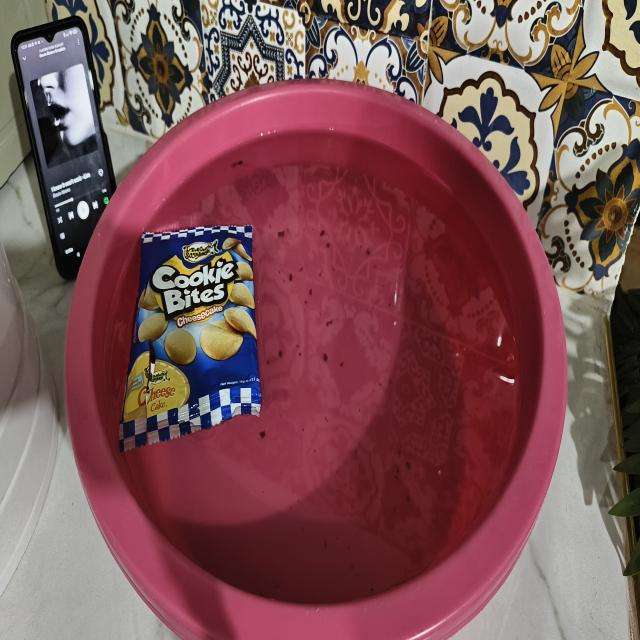Plastic Wrapper: (102, 184, 296, 484)
